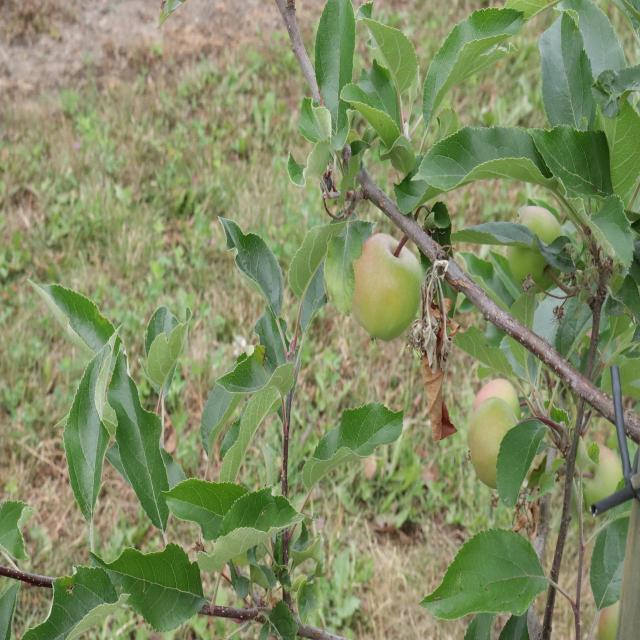-FireBlight-: (413, 277, 466, 443)
